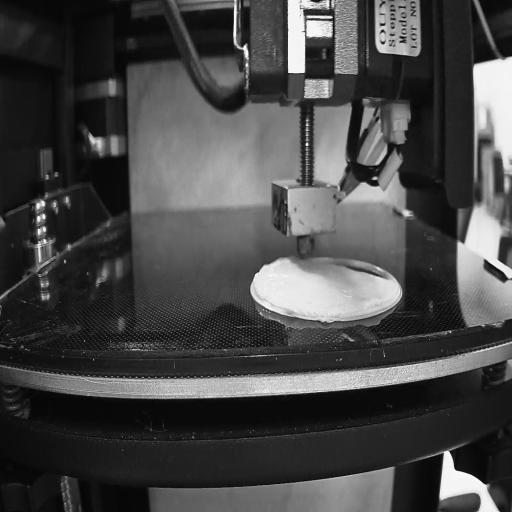over_extrusion: (252, 261, 270, 304)
